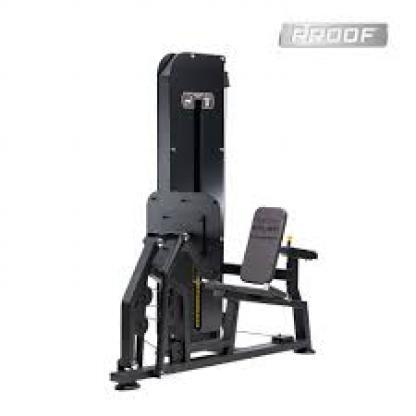leg press: (76, 38, 337, 391)
